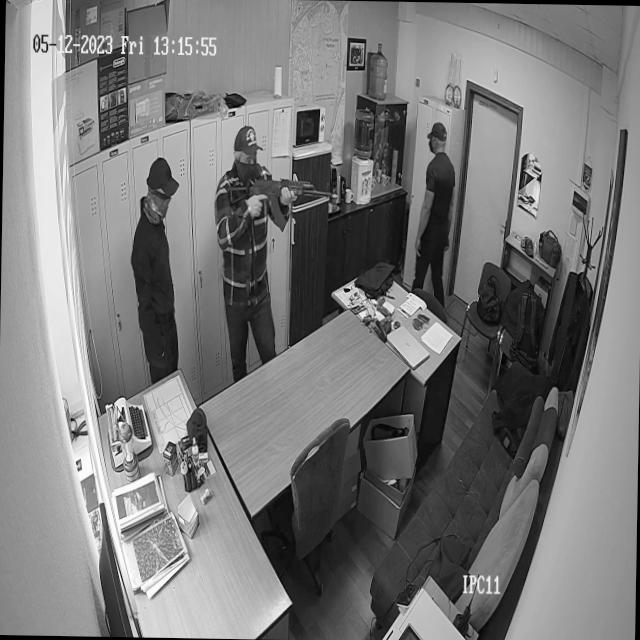gun: (227, 178, 331, 234)
person: (130, 156, 183, 370), (412, 122, 458, 289)
person with a gun: (209, 113, 332, 390)
